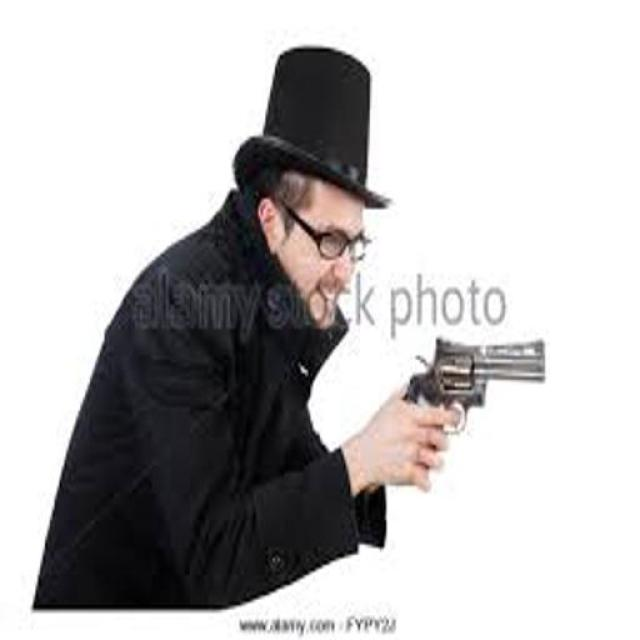pistol: (395, 314, 556, 503)
